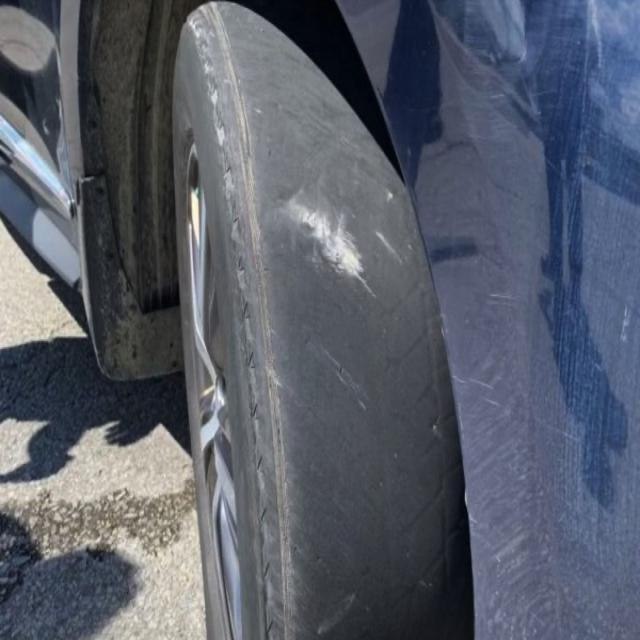Flat spots: (214, 0, 392, 640)
